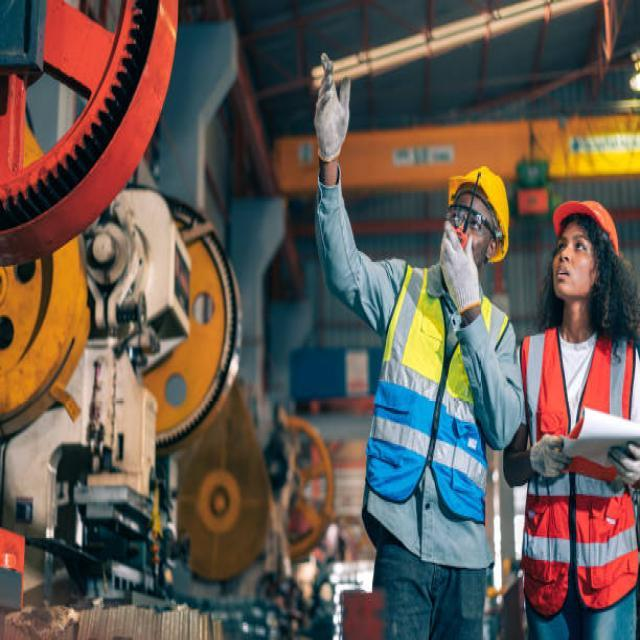gloved_hand: (309, 58, 354, 165), (436, 220, 483, 317), (529, 424, 573, 486), (601, 427, 640, 494)
